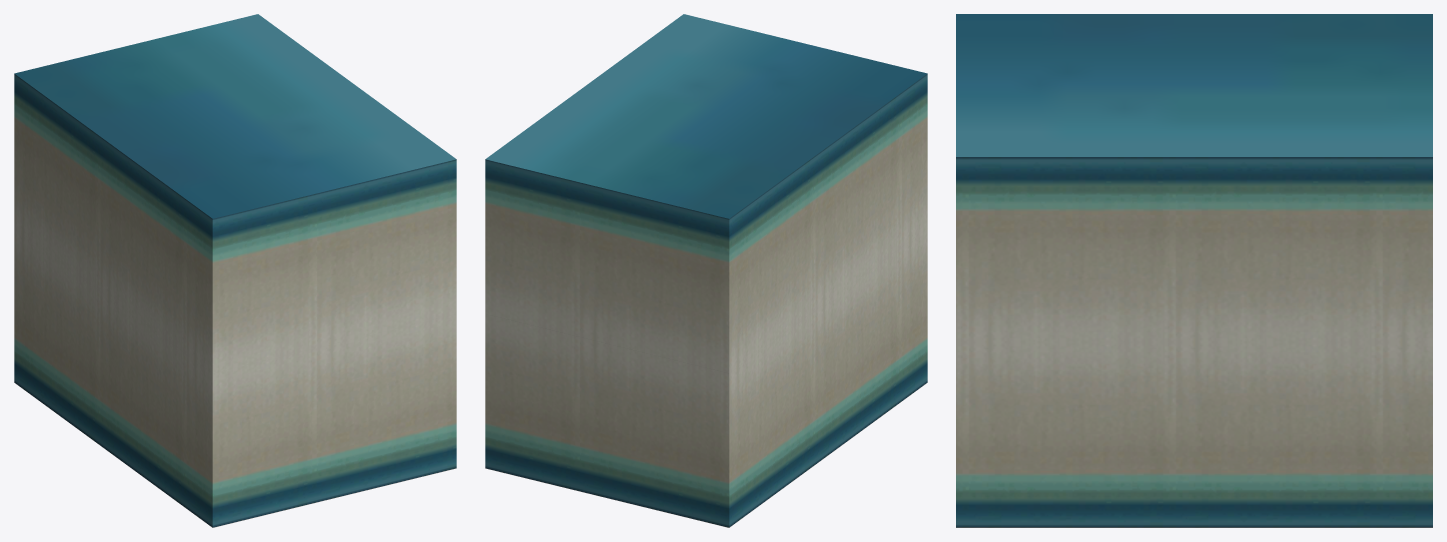
The picture shows the model from 3 angles, left to right: view 1: azimuth 30°, elevation 25°; view 2: azimuth 150°, elevation 25°; view 3: azimuth 270°, elevation 25°; orthographic projection. The views are drawn at different scales.
Visible parts, largest first — view 1: Checkout_Route_v2_0-SKP--Wall; view 2: Checkout_Route_v2_0-SKP--Wall; view 3: Checkout_Route_v2_0-SKP--Wall.
Boxes of the visible parts, x1,y1,x2,y2 form: Checkout_Route_v2_0-SKP--Wall: (14,14,456,527); Checkout_Route_v2_0-SKP--Wall: (485,14,927,527); Checkout_Route_v2_0-SKP--Wall: (956,14,1432,527).
Bounding box in the file's own units: 82600 × 100000 × 116433.
Materials: 41 (41 with a texture image).
